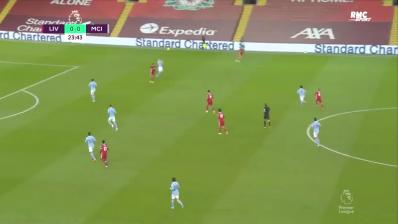football: (166, 46, 172, 52)
player: (168, 176, 186, 212), (105, 103, 121, 133), (83, 131, 98, 163), (308, 116, 323, 148), (86, 75, 100, 106), (215, 108, 229, 137), (99, 139, 111, 170), (203, 90, 216, 115), (313, 87, 326, 111), (296, 84, 309, 106), (147, 63, 158, 85), (235, 46, 248, 64), (155, 57, 166, 78)
referee: (261, 102, 274, 131)
